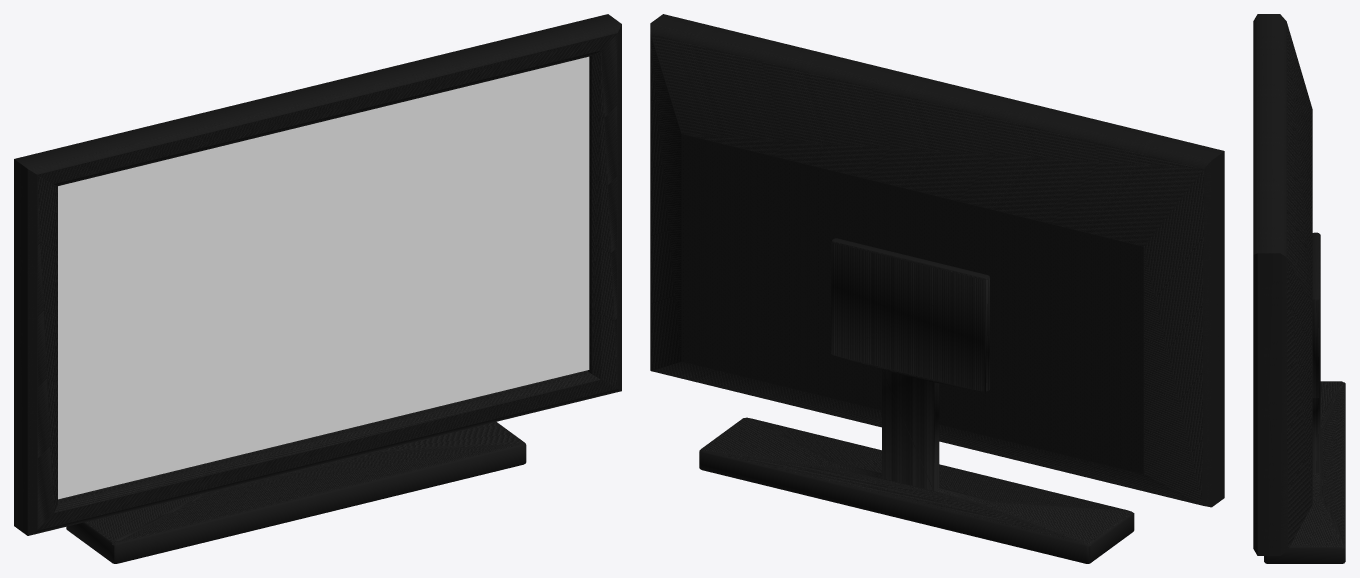
3 views of the same model, side by side, from view 1: azimuth 30°, elevation 25°; view 2: azimuth 150°, elevation 25°; view 3: azimuth 270°, elevation 25° (orthographic). The views are drawn at different scales.
Parts seen in each view (by area): view 1: TV; view 2: TV; view 3: TV.
Boxes of the visible parts, box(x1,y1,x2,y2) form: TV: box(14, 14, 621, 563); TV: box(650, 14, 1224, 563); TV: box(1253, 14, 1345, 563).
Bounding box in the file's own units: 196 × 133 × 31.97.
Materials: 2 (1 with a texture image).
